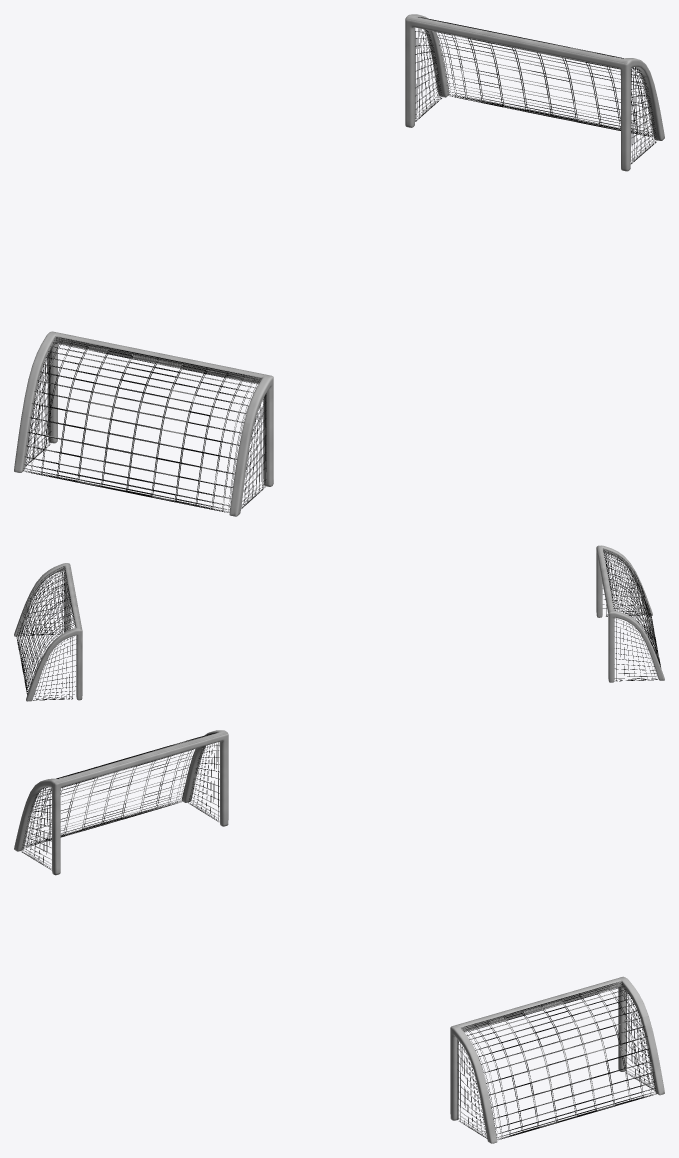
File: goal.glb
3 renders of one model, top to bottom at view 1: azimuth 30°, elevation 25°; view 2: azimuth 150°, elevation 25°; view 3: azimuth 270°, elevation 25°, orthographic. The views are drawn at different scales.
Parts seen in each view (by area): view 1: goal.001, goal.003; view 2: goal.003, goal.001; view 3: goal.003, goal.001.
Part boxes in pixels (x1,y1,x2,y2): goal.001: (14,331,273,516); goal.003: (405,14,664,171); goal.003: (14,563,82,701); goal.001: (596,545,664,682); goal.003: (450,976,664,1143); goal.001: (14,730,228,875).
Size of the model in its own units: 3.21 by 0.4055 by 2.56.
1 material, 1 textured.
